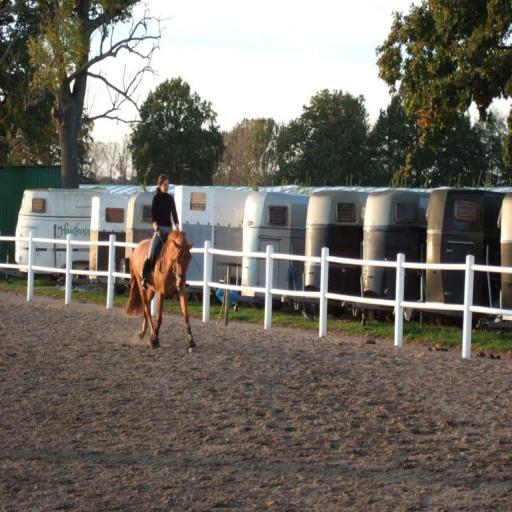Horse: (123, 229, 194, 356)
